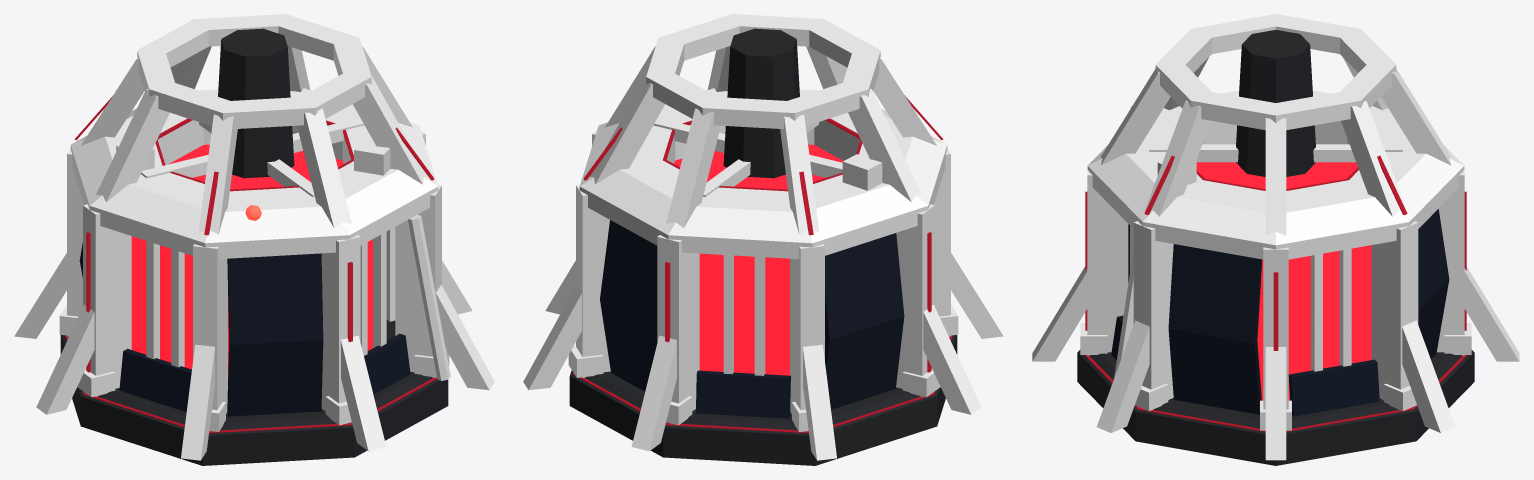
The model's file is core_landmark.gltf.
The picture shows the model from 3 angles, left to right: view 1: azimuth 30°, elevation 25°; view 2: azimuth 150°, elevation 25°; view 3: azimuth 270°, elevation 25°; orthographic projection.
Parts seen in each view (by area): view 1: gun, steel, graphite, plate, corehot, detail_steel, seam, detail_gun; view 2: gun, steel, plate, graphite, corehot, detail_steel, seam; view 3: gun, steel, graphite, plate, corehot, seam, detail_steel, detail_gun.
Part boxes in pixels (<box>): gun: <box>14,14,494,460</box>; steel: <box>70,88,438,258</box>; graphite: <box>60,28,448,465</box>; plate: <box>79,242,410,416</box>; corehot: <box>131,144,372,377</box>; detail_steel: <box>59,141,449,431</box>; seam: <box>65,96,437,433</box>; detail_gun: <box>408,214,450,380</box>; gun: <box>523,14,1003,460</box>; steel: <box>579,88,947,258</box>; plate: <box>600,220,904,418</box>; graphite: <box>569,28,957,465</box>; corehot: <box>674,144,842,375</box>; detail_steel: <box>568,154,958,431</box>; seam: <box>573,96,952,433</box>; gun: <box>1032,14,1519,460</box>; steel: <box>1087,90,1464,259</box>; graphite: <box>1077,30,1474,465</box>; plate: <box>1111,209,1449,416</box>; corehot: <box>1196,162,1371,400</box>; seam: <box>1085,155,1466,431</box>; detail_steel: <box>1080,160,1471,430</box>; detail_gun: <box>1114,250,1133,378</box>.
Bounding box in the file's own units: 10.71 × 8.2 × 10.71.
